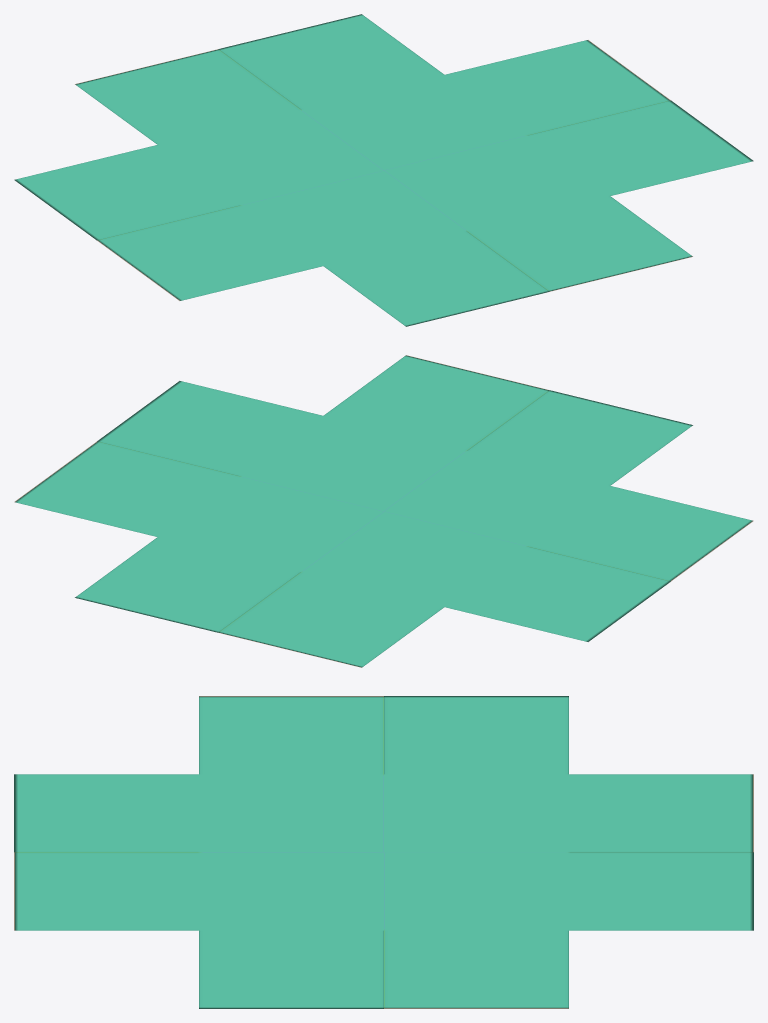
Rendered from MK_Path_Intersection_Trim.fbx.
3 renders of one model, top to bottom at view 1: azimuth 30°, elevation 25°; view 2: azimuth 150°, elevation 25°; view 3: azimuth 270°, elevation 25°, orthographic. The views are drawn at different scales.
Parts seen in each view (by area): view 1: Path_Intersection_Trim; view 2: Path_Intersection_Trim; view 3: Path_Intersection_Trim.
Part boxes in pixels (x1,y1,x2,y2): Path_Intersection_Trim: [14, 14, 753, 326]; Path_Intersection_Trim: [14, 355, 753, 667]; Path_Intersection_Trim: [14, 696, 753, 1008].
Size of the model in its own units: 180 by 0 by 180.
1 material, 1 textured.
